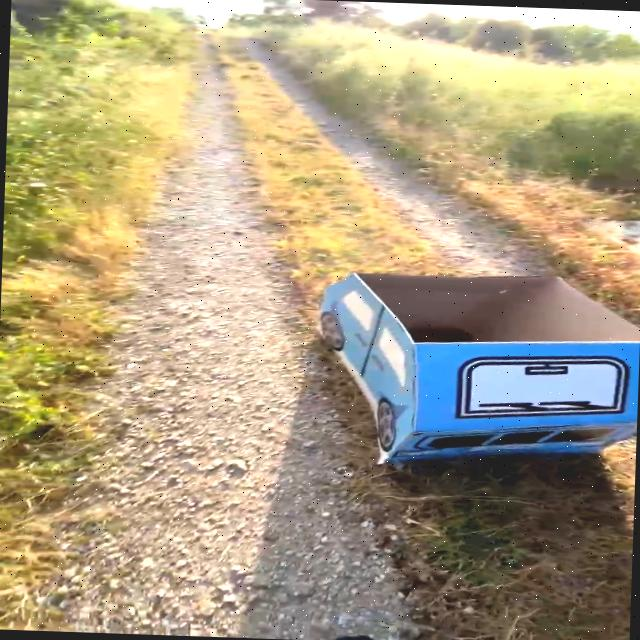blue_car: (244, 248, 640, 479)
